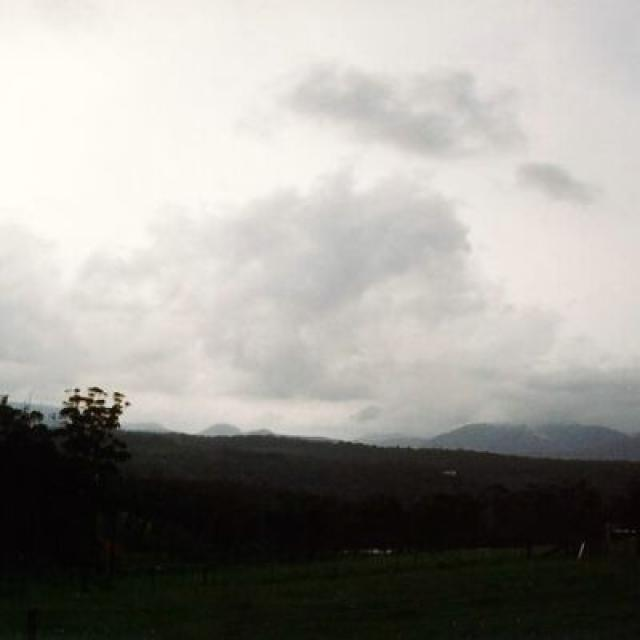Sc: (1, 39, 640, 360)
